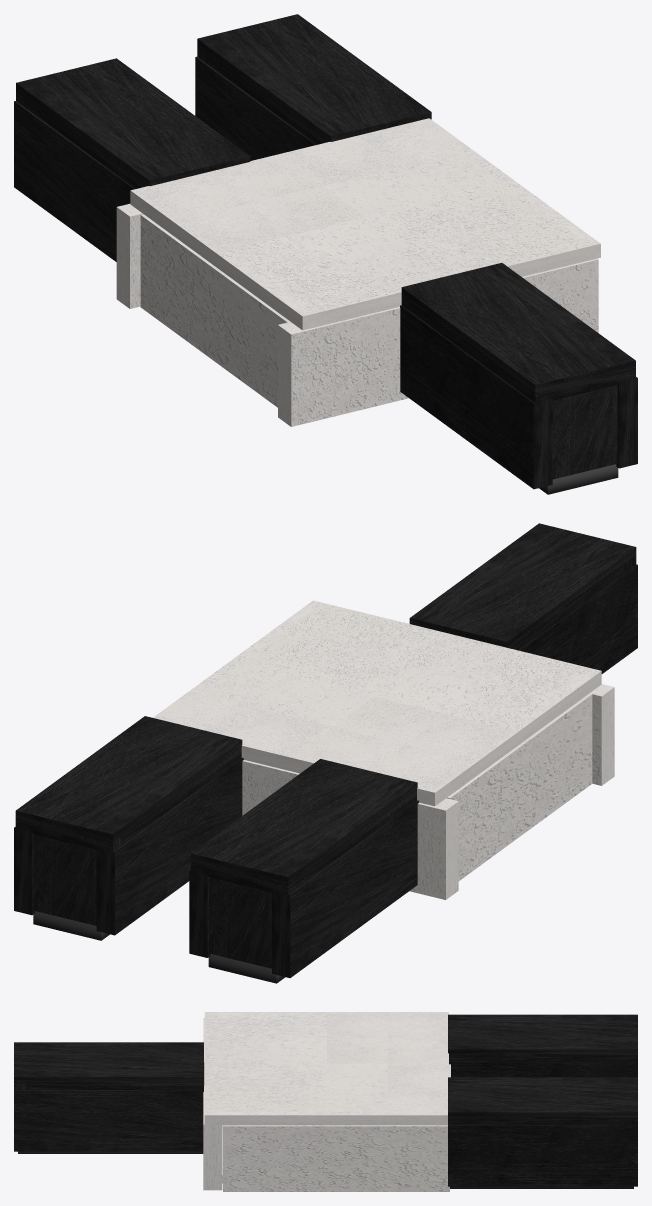
Rendered from Stage.fbx.
The picture shows the model from 3 angles, top to bottom: view 1: azimuth 30°, elevation 25°; view 2: azimuth 150°, elevation 25°; view 3: azimuth 270°, elevation 25°; orthographic projection. The views are drawn at different scales.
Parts seen in each view (by area): view 1: pasted__pasted__pasted__pasted__pasted__pasted__pasted__past (×7), pasted__pCube1, pasted__pasted__pasted__pasted__pCube2 (×2), pasted__pCube2, pasted__pasted__pasted__pasted__pasted__pCube2, pasted__pasted__pasted__pasted__pasted__pasted__pasted__pCub, pCube3; view 2: pasted__pasted__pasted__pasted__pasted__pasted__pasted__past (×10), pasted__pCube1, pasted__pCube2, pasted__pasted__pasted__pasted__pCube2 (×2), pasted__pasted__pasted__pCube2, pasted__pCube3, pasted__pasted__pCube3; view 3: pasted__pasted__pasted__pasted__pasted__pasted__pasted__past (×5), pasted__pCube1, pasted__pasted__pCube2, pasted__pasted__pasted__pasted__pasted__pasted__pasted__pCub, pasted__pasted__pasted__pasted__pasted__pCube2, pCube3, pasted__pasted__pCube3.
Part boxes in pixels (bbox=[...]): pasted__pasted__pasted__pasted__pasted__pasted__pasted__past (×7): bbox=[14, 14, 635, 489]; pasted__pCube1: bbox=[130, 118, 600, 330]; pasted__pasted__pasted__pasted__pCube2 (×2): bbox=[116, 203, 408, 426]; pasted__pCube2: bbox=[140, 214, 291, 407]; pasted__pasted__pasted__pasted__pasted__pCube2: bbox=[522, 258, 598, 332]; pasted__pasted__pasted__pasted__pasted__pasted__pasted__pCub: bbox=[616, 377, 637, 468]; pCube3: bbox=[539, 464, 618, 494]; pasted__pasted__pasted__pasted__pasted__pasted__pasted__past (×10): bbox=[14, 523, 637, 977]; pasted__pCube1: bbox=[153, 600, 601, 806]; pasted__pCube2: bbox=[446, 692, 593, 880]; pasted__pasted__pasted__pasted__pCube2 (×2): bbox=[409, 684, 614, 899]; pasted__pasted__pasted__pCube2: bbox=[242, 760, 299, 815]; pasted__pCube3: bbox=[208, 954, 285, 983]; pasted__pasted__pCube3: bbox=[33, 911, 109, 940]; pasted__pasted__pasted__pasted__pasted__pasted__pasted__past (×5): bbox=[14, 1014, 637, 1186]; pasted__pCube1: bbox=[204, 1012, 448, 1125]; pasted__pasted__pCube2: bbox=[223, 1125, 449, 1191]; pasted__pasted__pasted__pasted__pasted__pasted__pasted__pCub: bbox=[14, 1090, 203, 1151]; pasted__pasted__pasted__pasted__pasted__pCube2: bbox=[203, 1086, 222, 1190]; pCube3: bbox=[18, 1125, 222, 1153]; pasted__pasted__pCube3: bbox=[450, 1186, 633, 1188].
Size of the model in its own units: 24.64 by 8.65 by 59.63.
